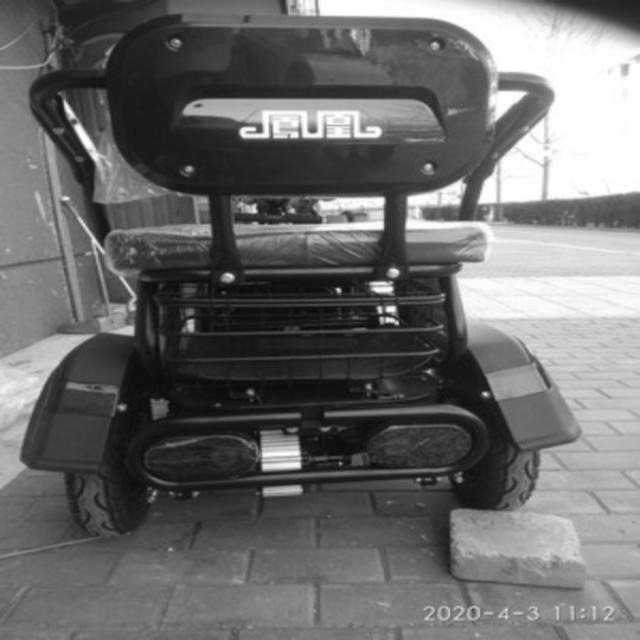tricycle: (13, 10, 589, 539)
